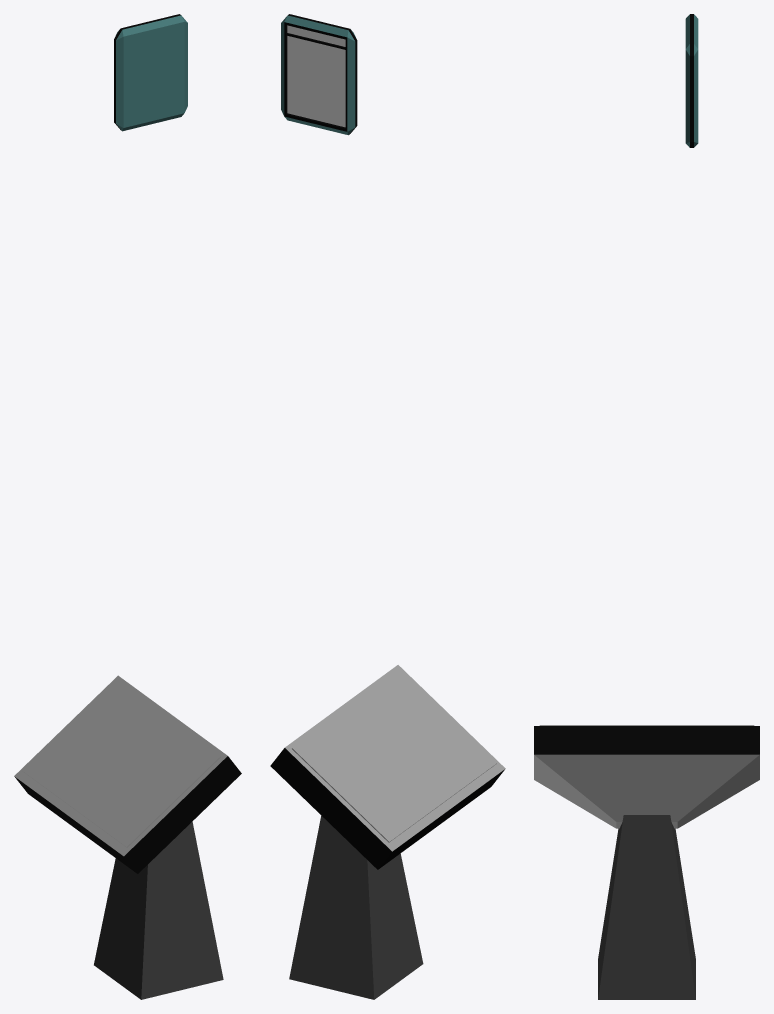
File: Gatex.glb
3 views of the same model, side by side, from view 1: azimuth 30°, elevation 25°; view 2: azimuth 150°, elevation 25°; view 3: azimuth 270°, elevation 25° (orthographic). The views are drawn at different scales.
Parts seen in each view (by area): view 1: SoporteTablet, Tarjeta1; view 2: SoporteTablet, Tarjeta1; view 3: SoporteTablet, Tarjeta1.
Boxes of the visible parts, box(x1,y1,x2,y2) form: SoporteTablet: box(14, 675, 241, 999); Tarjeta1: box(114, 14, 187, 131); SoporteTablet: box(270, 665, 505, 999); Tarjeta1: box(281, 14, 357, 135); SoporteTablet: box(534, 725, 759, 999); Tarjeta1: box(685, 14, 698, 147).
Size of the model in its own units: 2.62 by 16.68 by 3.56.
